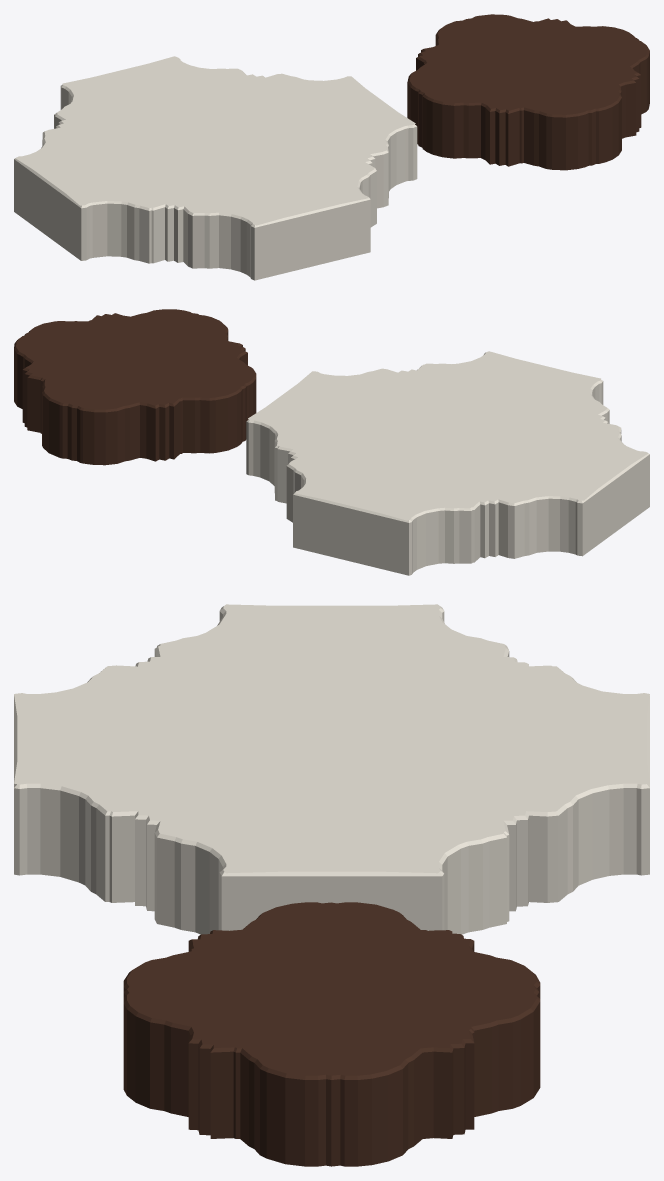
The model's file is mahsulot.glb.
3 views of the same model, one above another, from view 1: azimuth 30°, elevation 25°; view 2: azimuth 150°, elevation 25°; view 3: azimuth 270°, elevation 25° (orthographic). The views are drawn at different scales.
Visible parts, largest first — view 1: mahsulot_A, mahsulot_B; view 2: mahsulot_A, mahsulot_B; view 3: mahsulot_A, mahsulot_B.
Boxes of the visible parts, <box> form: mahsulot_A: <box>14,56,417,280</box>; mahsulot_B: <box>407,14,649,170</box>; mahsulot_A: <box>246,351,649,575</box>; mahsulot_B: <box>14,309,256,465</box>; mahsulot_A: <box>14,604,649,934</box>; mahsulot_B: <box>123,902,540,1166</box>.
Bounding box in the file's own units: 0.51 × 0.045 × 0.29.
